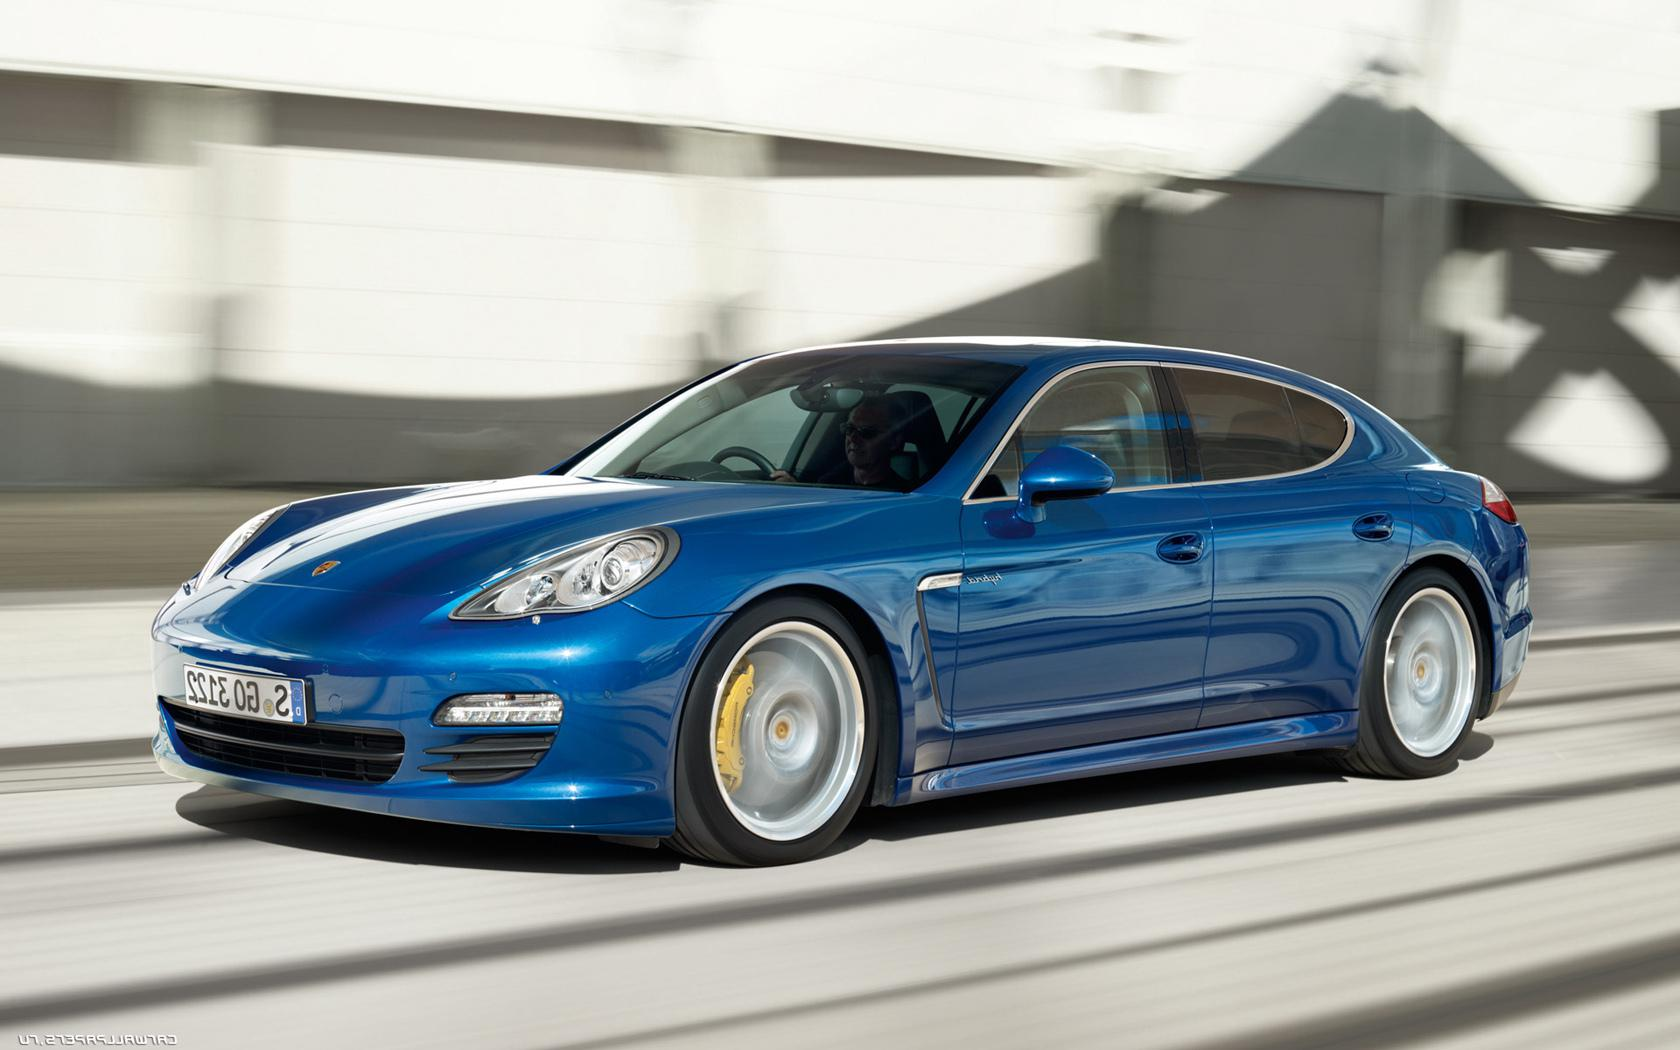Car: (2, 279, 1568, 918)
